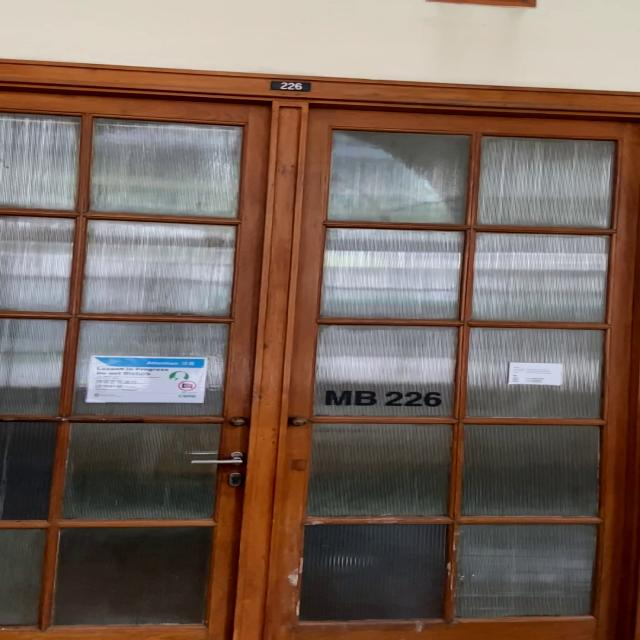room226: (266, 77, 316, 93)
room226Window: (319, 384, 444, 410)
